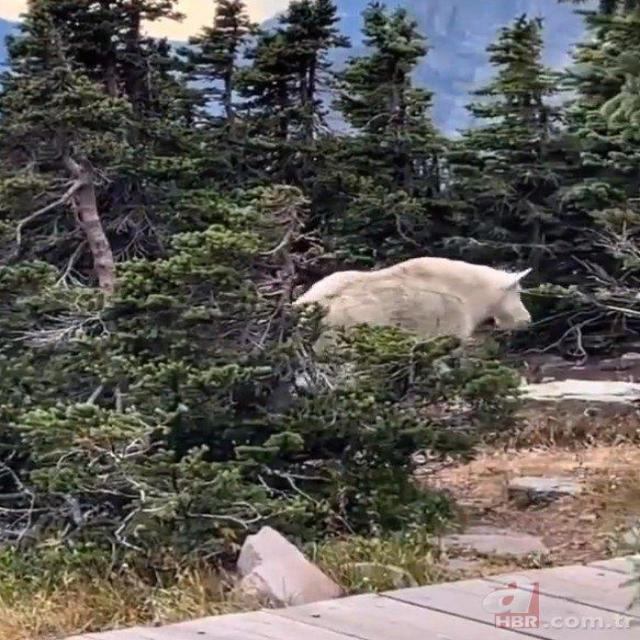Bear: (295, 257, 530, 342)
